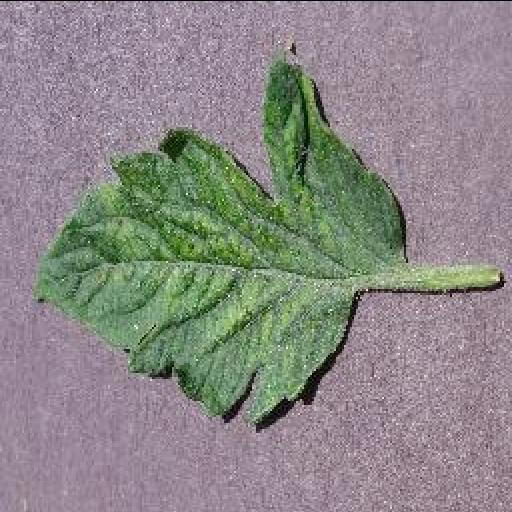disease_tomato: (32, 56, 406, 426)
